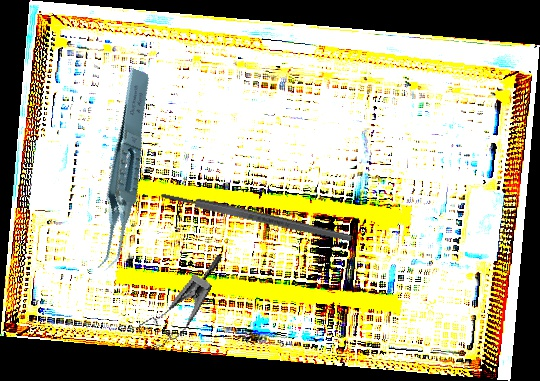Scalpel Handle: (159, 189, 354, 245)
Speculum: (133, 237, 223, 361)
Tissue Forceps: (52, 66, 190, 275)
